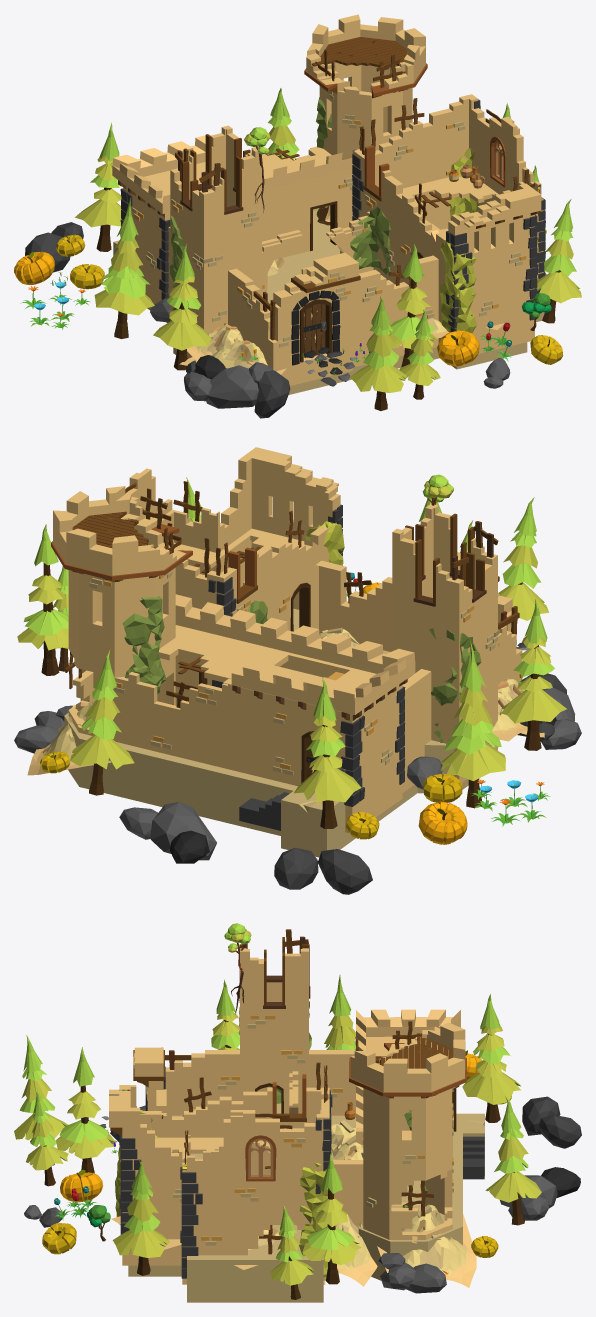
Rendered from CleanCastleRuins.fbx.
The picture shows the model from 3 angles, top to bottom: view 1: azimuth 30°, elevation 25°; view 2: azimuth 150°, elevation 25°; view 3: azimuth 270°, elevation 25°; orthographic projection. The views are drawn at different scales.
Parts seen in each view (by area): view 1: structure_2, structure_3, Tower, structure_1, walls, wall_3, battlement_1, forest.002_5, base, bricks, forest.002_3, forest.002_1 (+29 smaller); view 2: structure_1, structure_2, Tower, structure_3, base, battlement_1, walls, forest.002_5, forest.002_10, forest.002_3, forest.002_9, forest.002_7 (+27 smaller); view 3: structure_2, Tower, base, structure_3, walls, forest.002_10, forest.002_7, debris_10, forest.002_2, forest.002_6, forest.002_9, battlement_1 (+30 smaller).
Boxes of the visible parts, x1,y1,x2,y2 form: structure_2: [354, 94, 543, 353]; structure_3: [170, 125, 261, 358]; Tower: [304, 14, 427, 226]; structure_1: [123, 146, 352, 304]; walls: [167, 227, 438, 375]; wall_3: [270, 252, 358, 385]; battlement_1: [112, 134, 364, 213]; forest.002_5: [94, 197, 154, 338]; base: [113, 210, 546, 394]; bricks: [132, 87, 526, 347]; forest.002_3: [153, 243, 211, 370]; forest.002_1: [350, 296, 406, 410]; structure_1: [112, 625, 402, 832]; structure_2: [125, 447, 340, 685]; Tower: [51, 486, 192, 735]; structure_3: [392, 504, 497, 782]; base: [64, 608, 468, 857]; battlement_1: [175, 594, 415, 714]; walls: [316, 560, 522, 792]; forest.002_5: [441, 640, 505, 807]; forest.002_10: [294, 677, 361, 828]; forest.002_3: [501, 598, 566, 750]; forest.002_9: [70, 649, 134, 795]; forest.002_7: [17, 524, 68, 675]; structure_2: [109, 1085, 329, 1284]; Tower: [349, 1022, 466, 1239]; base: [128, 1103, 484, 1302]; structure_3: [240, 948, 308, 1113]; walls: [156, 1050, 363, 1228]; forest.002_10: [462, 994, 520, 1122]; forest.002_7: [302, 1153, 361, 1284]; debris_10: [377, 1204, 476, 1287]; forest.002_2: [55, 1047, 115, 1172]; forest.002_6: [112, 1160, 169, 1275]; forest.002_9: [485, 1096, 541, 1225]; battlement_1: [356, 1009, 460, 1145].
Size of what is drawn, in the model's own units: 2099 by 1022 by 2115.
